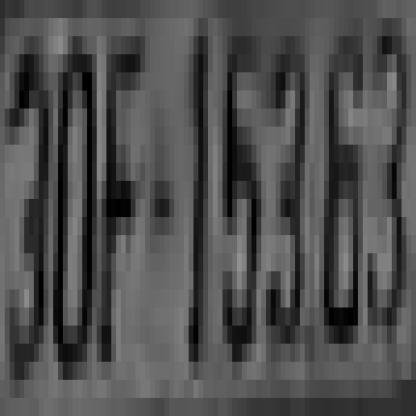0: (53, 36, 97, 362)
1: (179, 36, 213, 362)
3: (5, 54, 48, 380), (363, 18, 406, 326), (261, 36, 300, 326)
5: (218, 36, 256, 344)
6: (319, 36, 358, 326)
F: (107, 36, 145, 344)
